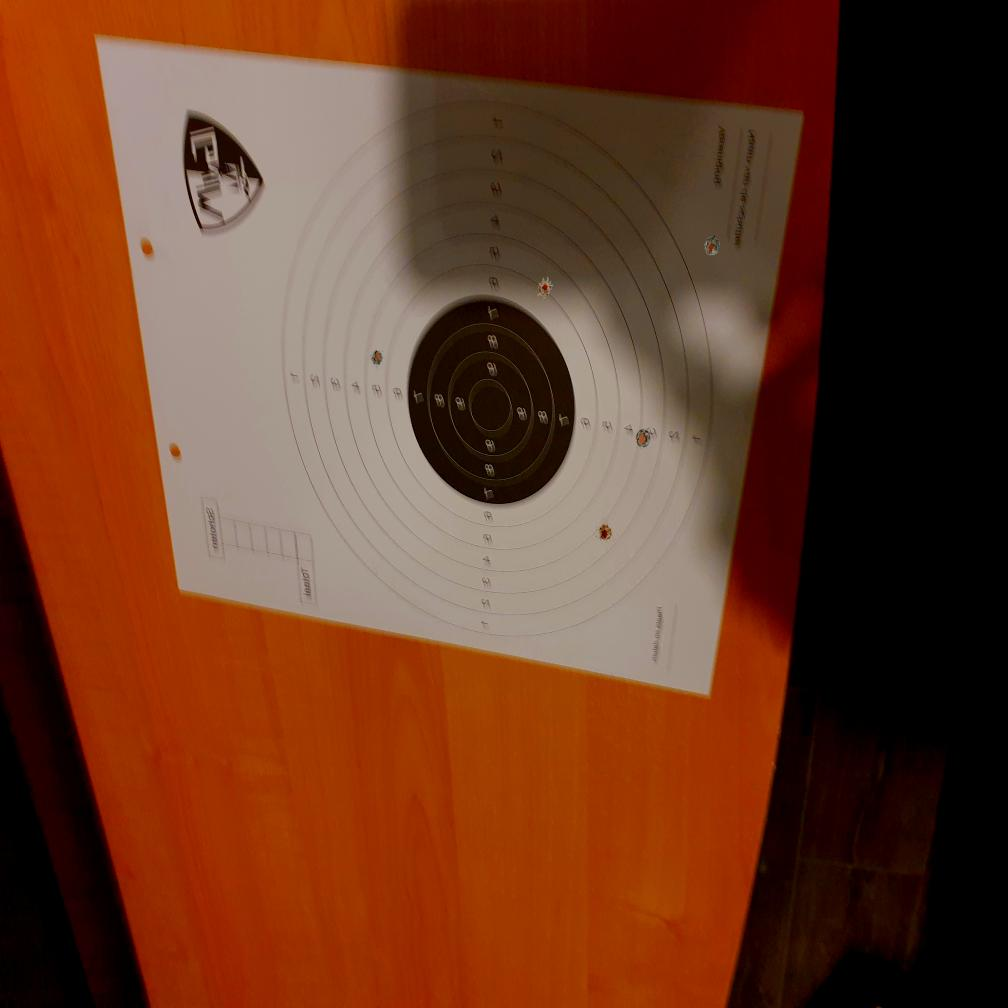0: (704, 236, 720, 257)
4: (635, 428, 651, 448), (598, 524, 612, 542)
5: (370, 350, 384, 370)
6: (536, 276, 553, 300)
Target: (279, 96, 716, 642)
black_contour: (406, 296, 576, 505)
